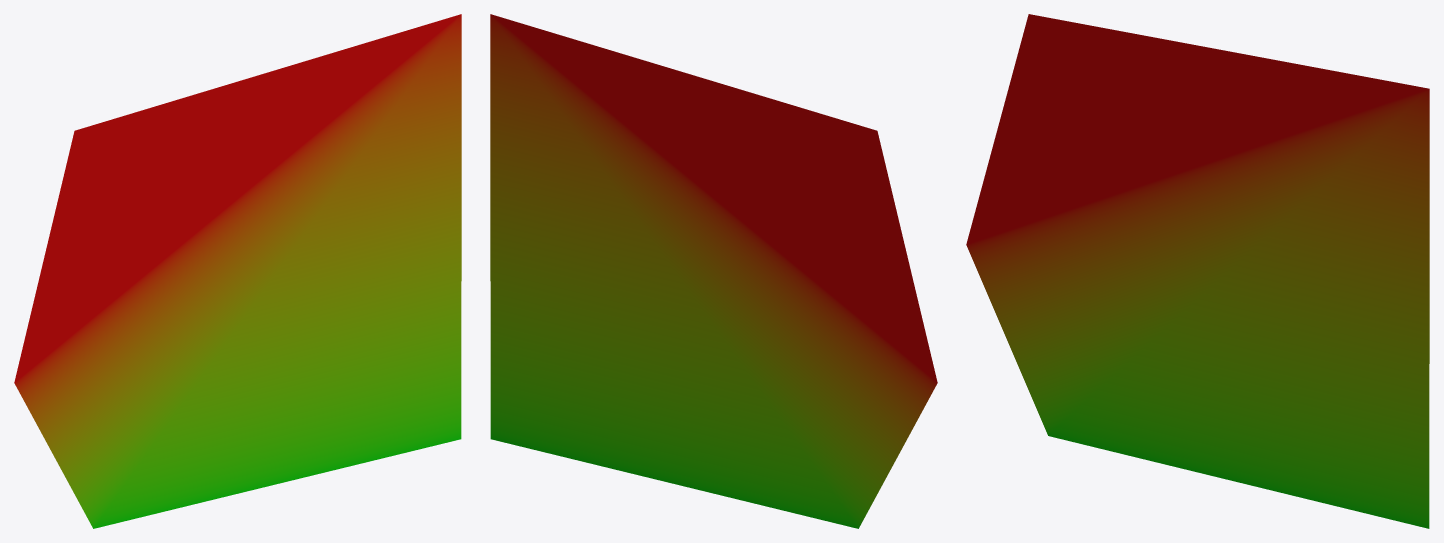
File: Var6_LOD3.fbx
3 renders of one model, left to right at view 1: azimuth 30°, elevation 25°; view 2: azimuth 150°, elevation 25°; view 3: azimuth 330°, elevation 25°, orthographic. The views are drawn at different scales.
Parts seen in each view (by area): view 1: _f19e_Var6_LOD3; view 2: _f19e_Var6_LOD3; view 3: _f19e_Var6_LOD3.
Part boxes in pixels (x1,y1,x2,y2): _f19e_Var6_LOD3: [14, 14, 461, 528]; _f19e_Var6_LOD3: [490, 14, 937, 528]; _f19e_Var6_LOD3: [966, 14, 1429, 528].
Size of the model in its own units: 107 by 97.39 by 4.05e-06.
